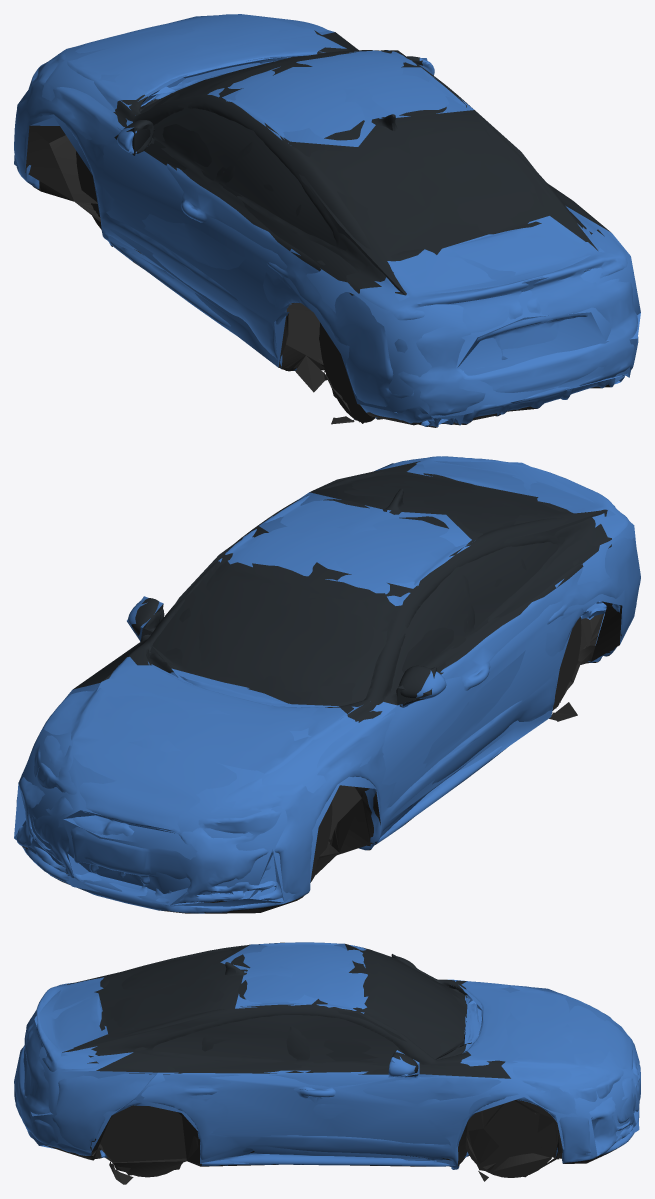
File: audi-rs-e-tron-gt.glb
3 renders of one model, top to bottom at view 1: azimuth 30°, elevation 25°; view 2: azimuth 150°, elevation 25°; view 3: azimuth 270°, elevation 25°, orthographic. The views are drawn at different scales.
Visible parts, largest first — view 1: body, far; view 2: body, far; view 3: body, far.
Part boxes in pixels (x1=…): body: x1=14, y1=14, x2=638, y2=427; far: x1=14, y1=14, x2=640, y2=425; body: x1=16, y1=456, x2=640, y2=913; far: x1=14, y1=461, x2=638, y2=906; body: x1=14, y1=942, x2=640, y2=1184; far: x1=14, y1=943, x2=639, y2=1177.
Size of the model in its own units: 2.1 by 1.58 by 5.
